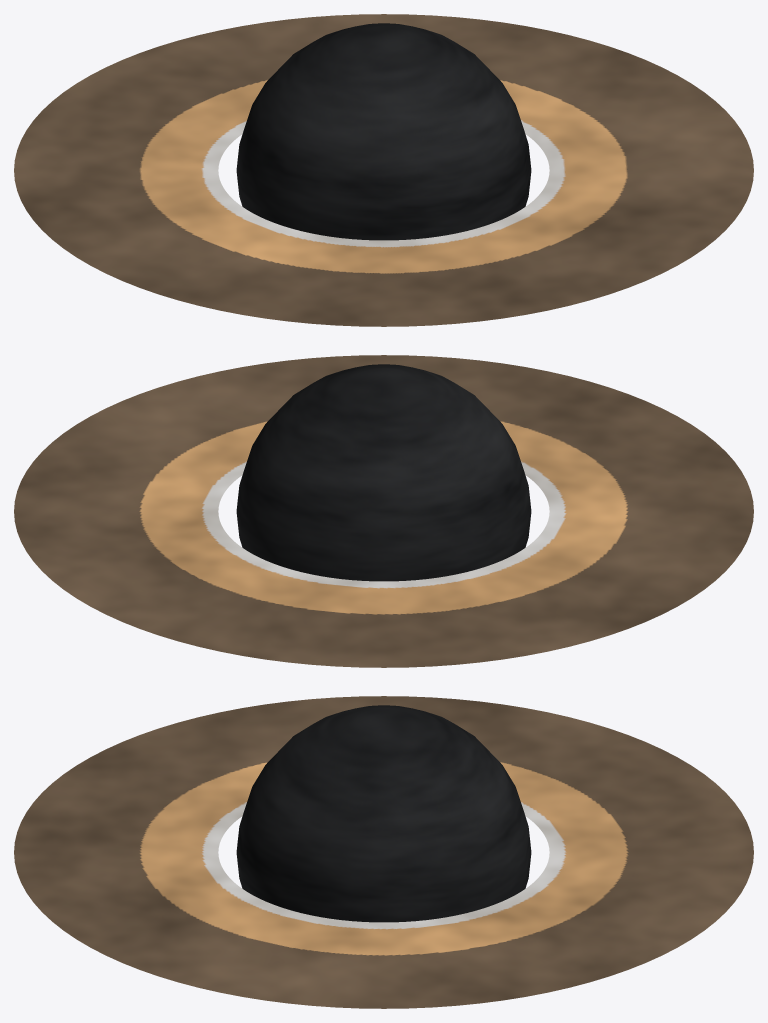
File: black_hole.glb
The picture shows the model from 3 angles, top to bottom: view 1: azimuth 30°, elevation 25°; view 2: azimuth 150°, elevation 25°; view 3: azimuth 270°, elevation 25°; orthographic projection.
Visible parts, largest first — view 1: black_hole_textured_mesh; view 2: black_hole_textured_mesh; view 3: black_hole_textured_mesh.
Part boxes in pixels (left/top/right/bottom): black_hole_textured_mesh: left=14, top=14, right=753, bottom=326; black_hole_textured_mesh: left=14, top=355, right=753, bottom=667; black_hole_textured_mesh: left=14, top=696, right=753, bottom=1008.
Bounding box in the file's own units: 2.86 × 1.14 × 2.86.
Materials: 1 (1 with a texture image).
